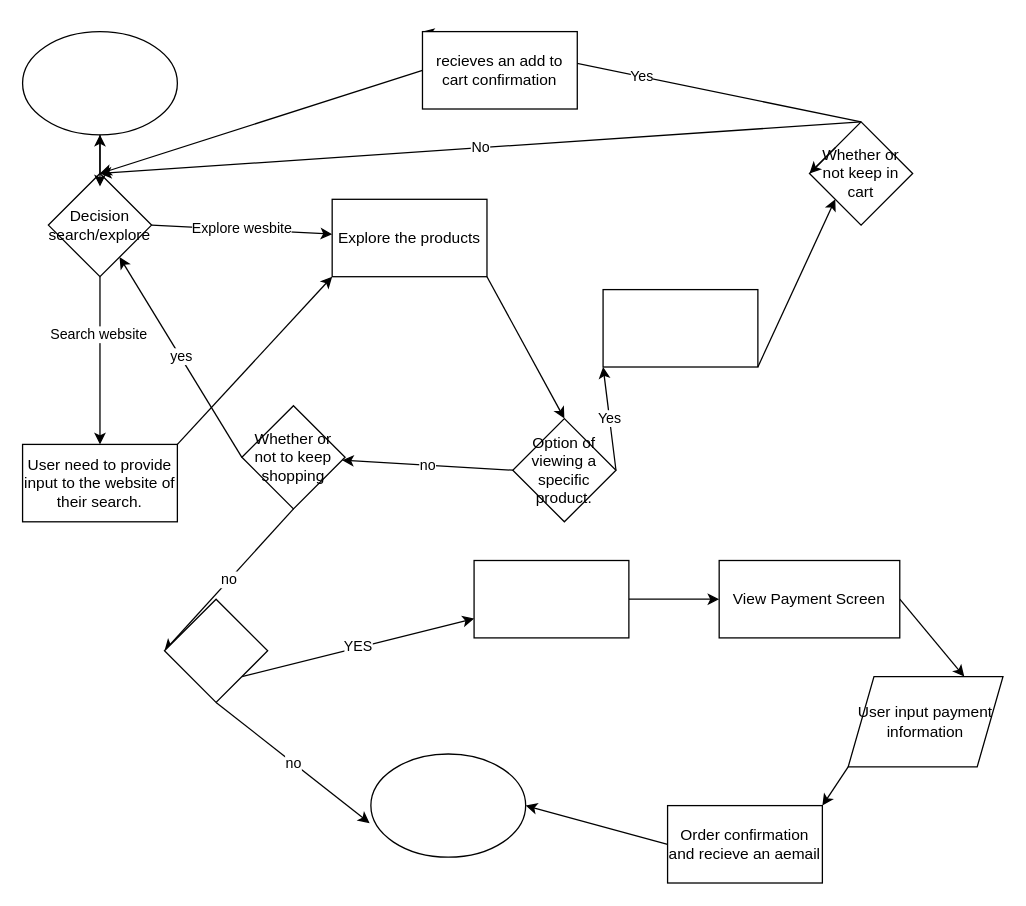
This 1026x906 diagram has some shape labels left out. The shapes that lost their labels are listed below. From the top down, each one's box as (x1, y1, x2, y2) in pixels, then its label:
(21, 30, 177, 135): User begin by entering the website.
(602, 288, 758, 367): product webpage will open.
(473, 559, 629, 638): View Cart Screen
(163, 598, 268, 702): Checkout?
(370, 753, 526, 857): LEAVE THE WEBSITE
